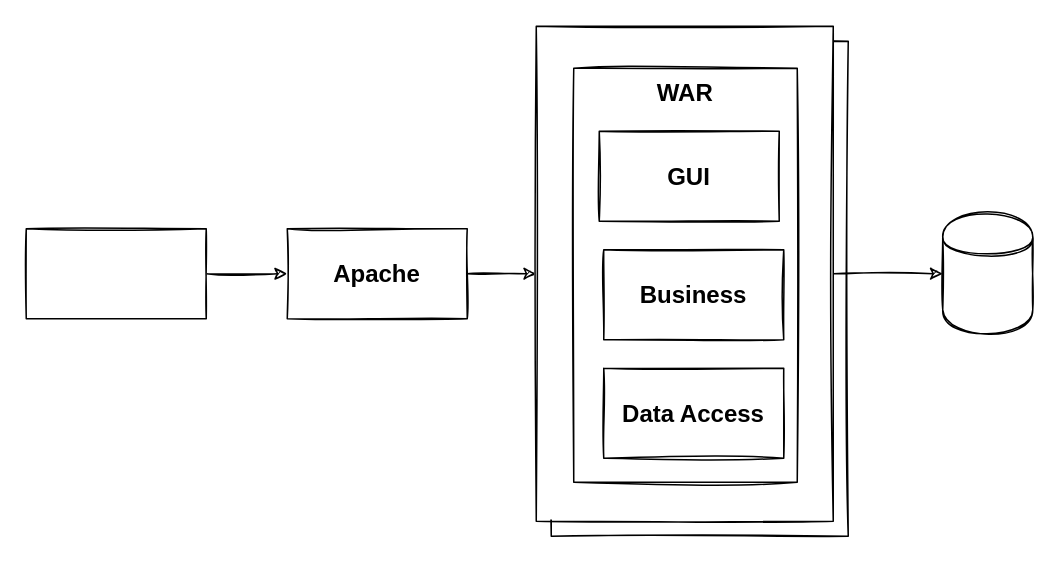
The diagram is 1059 pixels wide and 563 high, and some of its shapes have lost their labels. Each missing label, with the centre of its shape:
"MySQL" goes at (x=987, y=273).
"Web" goes at (x=115, y=273).
